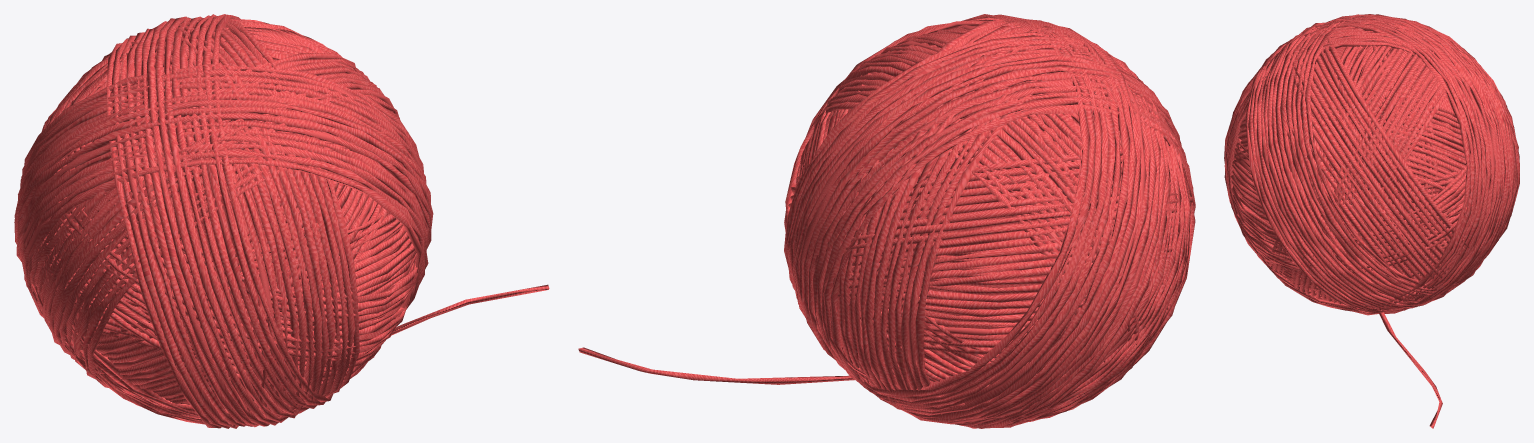
Rendered from cat toy.fbx.
The picture shows the model from 3 angles, left to right: view 1: azimuth 30°, elevation 25°; view 2: azimuth 150°, elevation 25°; view 3: azimuth 270°, elevation 25°; orthographic projection. The views are drawn at different scales.
Visible parts, largest first — view 1: Ball_Of_Yarn-material; view 2: Ball_Of_Yarn-material; view 3: Ball_Of_Yarn-material.
Boxes of the visible parts, x1,y1,x2,y2 form: Ball_Of_Yarn-material: (14,14,549,428); Ball_Of_Yarn-material: (578,14,1195,428); Ball_Of_Yarn-material: (1224,14,1519,428).
Size of the model in its own units: 848 by 560 by 554.
1 material, 1 textured.
